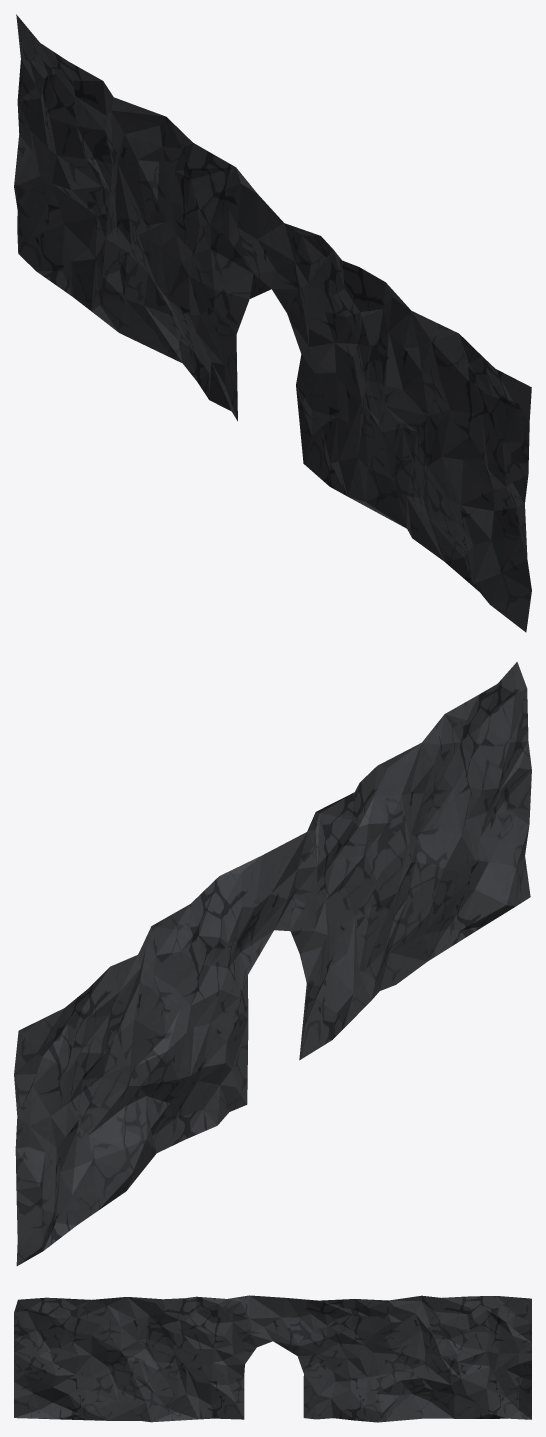
Rendered from Mur_Cadre.FBX.
3 views of the same model, one above another, from view 1: azimuth 30°, elevation 25°; view 2: azimuth 150°, elevation 25°; view 3: azimuth 270°, elevation 25° (orthographic). The views are drawn at different scales.
Parts seen in each view (by area): view 1: Mur_Cadre; view 2: Mur_Cadre; view 3: Mur_Cadre.
Boxes of the visible parts, <box> form: Mur_Cadre: <box>14,14,531,632</box>; Mur_Cadre: <box>14,662,531,1265</box>; Mur_Cadre: <box>14,1295,531,1422</box>.
Bounding box in the file's own units: 60.87 × 422 × 1640.
1 material, 1 textured.
